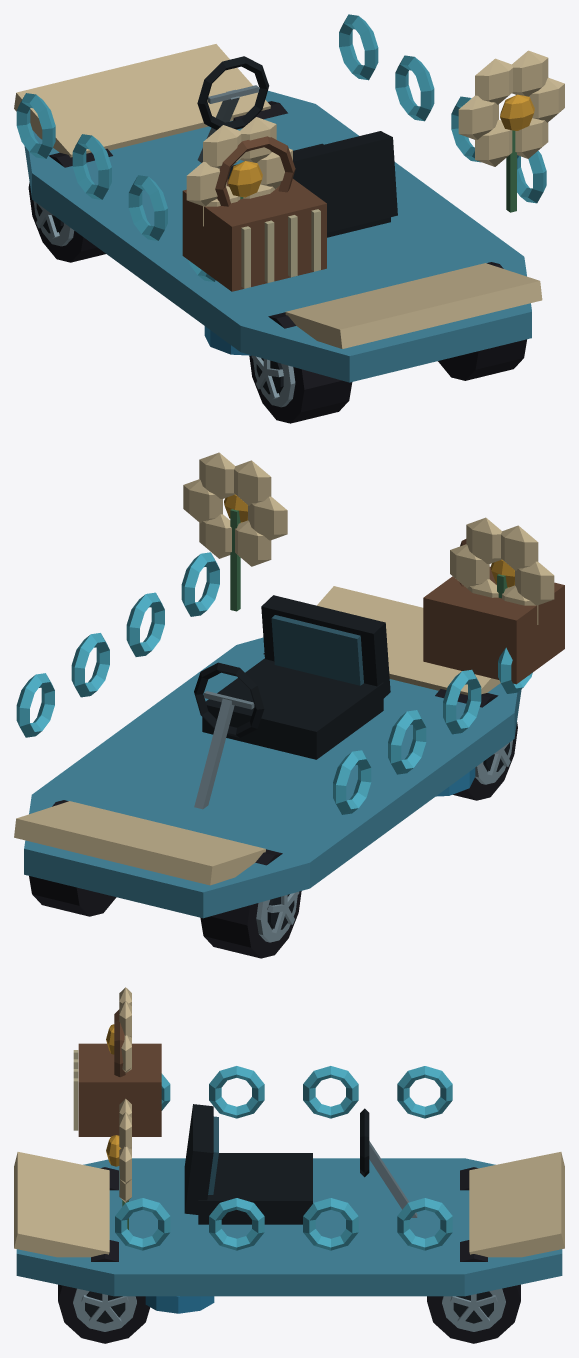
File: kart.glb
3 views of the same model, one above another, from view 1: azimuth 30°, elevation 25°; view 2: azimuth 150°, elevation 25°; view 3: azimuth 270°, elevation 25° (orthographic). The views are drawn at different scales.
Parts seen in each view (by area): view 1: identity-hoverboard-hoverboard-turned-up-deck, identity-hoverboard-motif-flowers, identity-hoverboard-motif-basket, identity-hoverboard-driver-cockpit, identity-hoverboard-motif-water, wheel-rear-left, wheel-front-left, wheel-rear-right; view 2: identity-hoverboard-hoverboard-turned-up-deck, identity-hoverboard-driver-cockpit, identity-hoverboard-motif-flowers, identity-hoverboard-motif-water, identity-hoverboard-motif-basket, wheel-front-left, wheel-front-right, wheel-rear-left; view 3: identity-hoverboard-hoverboard-turned-up-deck, identity-hoverboard-motif-water, identity-hoverboard-driver-cockpit, identity-hoverboard-motif-basket, wheel-front-right, wheel-rear-right, identity-hoverboard-motif-flowers.
Part boxes in pixels (x1,y1,x2,y2): identity-hoverboard-hoverboard-turned-up-deck: [14, 44, 542, 382]; identity-hoverboard-motif-flowers: [186, 50, 564, 226]; identity-hoverboard-motif-basket: [182, 136, 326, 291]; identity-hoverboard-driver-cockpit: [197, 56, 397, 237]; identity-hoverboard-motif-water: [16, 14, 546, 281]; wheel-rear-left: [249, 312, 352, 423]; wheel-front-left: [28, 148, 112, 262]; wheel-rear-right: [438, 262, 526, 380]; identity-hoverboard-hoverboard-turned-up-deck: [14, 586, 521, 918]; identity-hoverboard-driver-cockpit: [194, 595, 390, 809]; identity-hoverboard-motif-flowers: [183, 452, 554, 624]; identity-hoverboard-motif-water: [16, 552, 532, 814]; identity-hoverboard-motif-basket: [423, 539, 564, 684]; wheel-front-left: [200, 849, 301, 958]; wheel-front-right: [29, 800, 116, 916]; wheel-rear-left: [435, 689, 517, 800]; identity-hoverboard-hoverboard-turned-up-deck: [14, 1152, 564, 1313]; identity-hoverboard-motif-water: [115, 1066, 452, 1250]; identity-hoverboard-driver-cockpit: [184, 1104, 417, 1224]; identity-hoverboard-motif-basket: [73, 1009, 161, 1136]; wheel-front-right: [427, 1240, 520, 1343]; wheel-rear-right: [58, 1240, 150, 1343]; identity-hoverboard-motif-flowers: [106, 987, 131, 1229].
Bounding box in the file's own units: 1.95 × 1.46 × 2.93.
